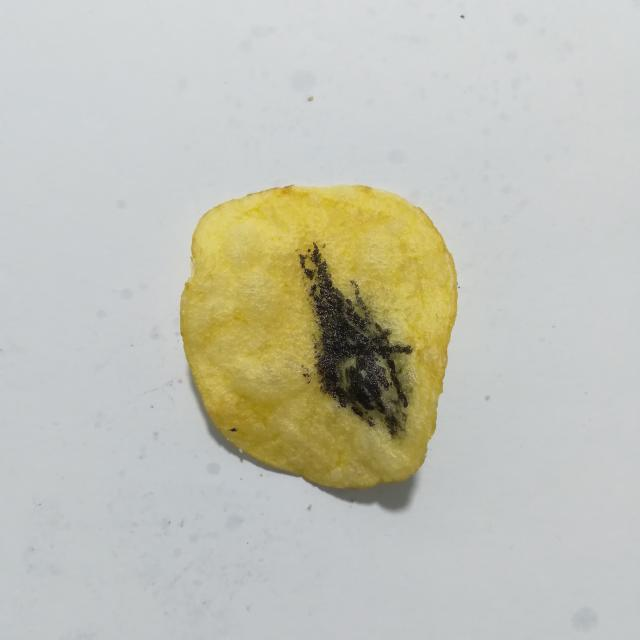chip: (180, 185, 457, 488)
damaged: (300, 243, 412, 435), (231, 428, 237, 432)
